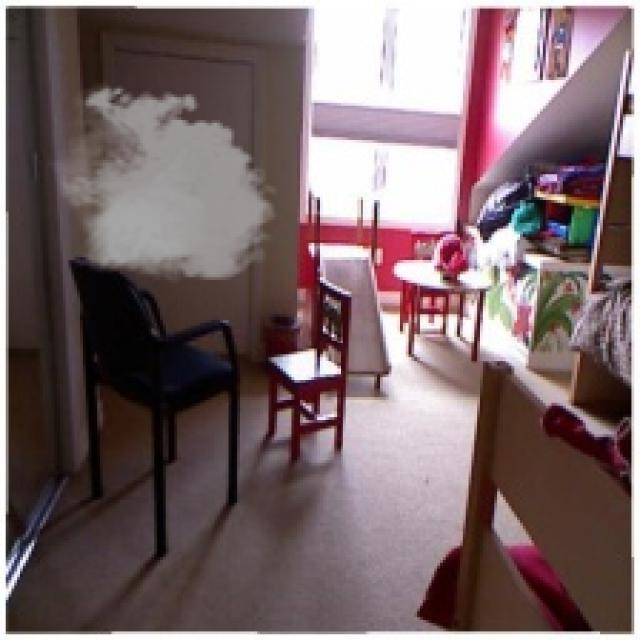Smoke: (46, 80, 283, 289)
